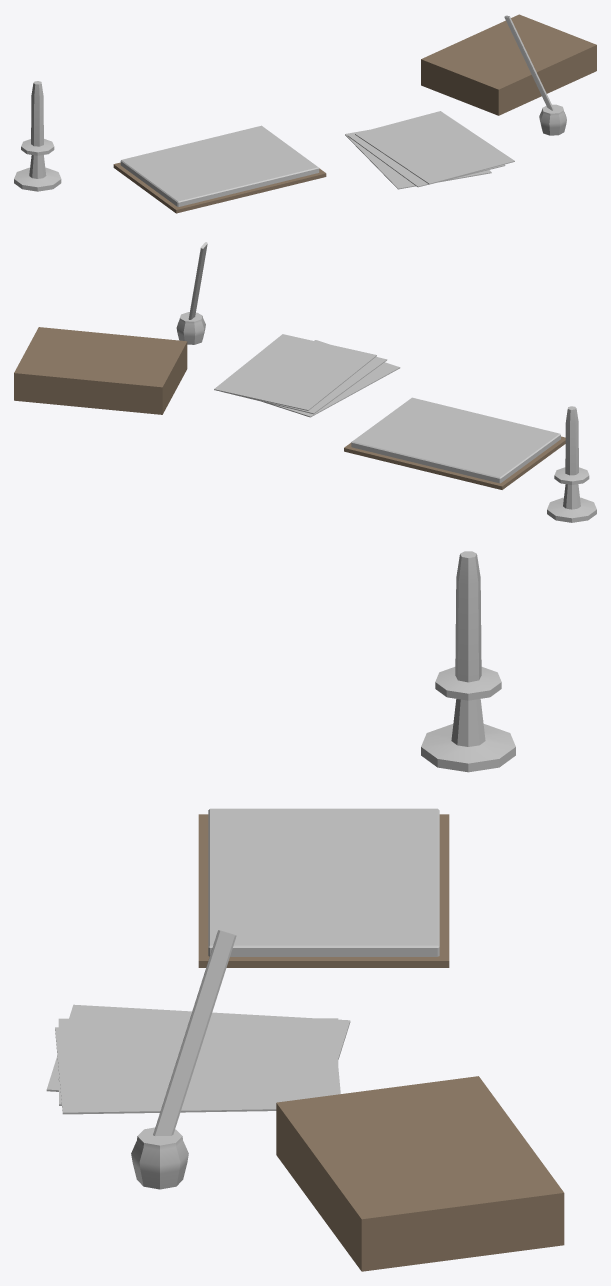
File: furn_desk_things.glb
The picture shows the model from 3 angles, top to bottom: view 1: azimuth 30°, elevation 25°; view 2: azimuth 150°, elevation 25°; view 3: azimuth 270°, elevation 25°; orthographic projection. The views are drawn at different scales.
Parts seen in each view (by area): view 1: furn_desk_things; view 2: furn_desk_things; view 3: furn_desk_things.
Part boxes in pixels (bbox=[...]): furn_desk_things: bbox=[14, 14, 596, 213]; furn_desk_things: bbox=[14, 242, 596, 522]; furn_desk_things: bbox=[46, 551, 564, 1271].
Bounding box in the file's own units: 1.32 × 0.2533 × 0.537.
